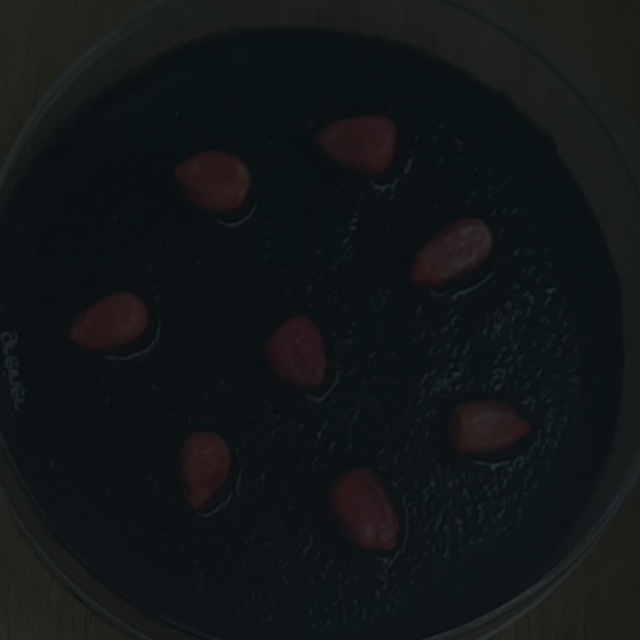Zea mays: (317, 456, 408, 560), (398, 206, 501, 294), (163, 138, 261, 224), (305, 103, 406, 183), (58, 282, 158, 362), (255, 304, 335, 398), (439, 390, 539, 463), (171, 418, 238, 516)
